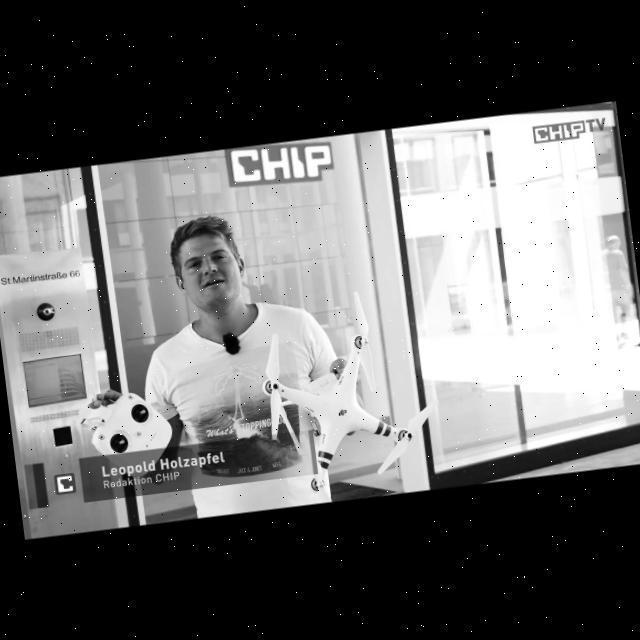Drons: (240, 284, 454, 502)
